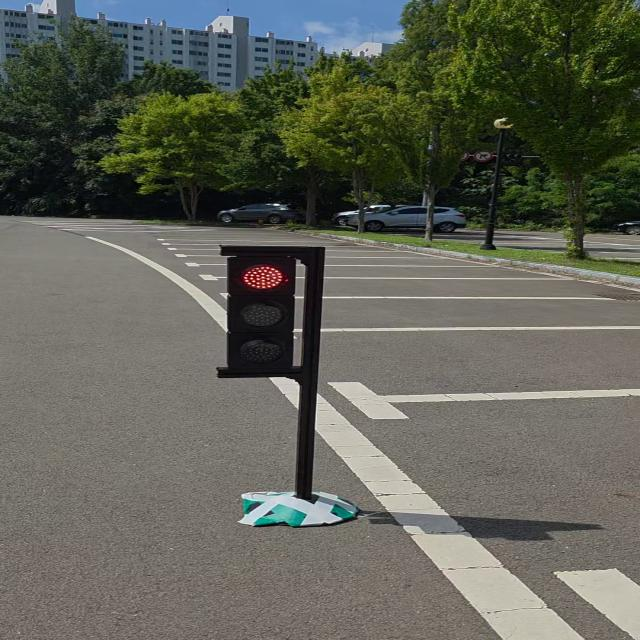red: (218, 252, 304, 374)
